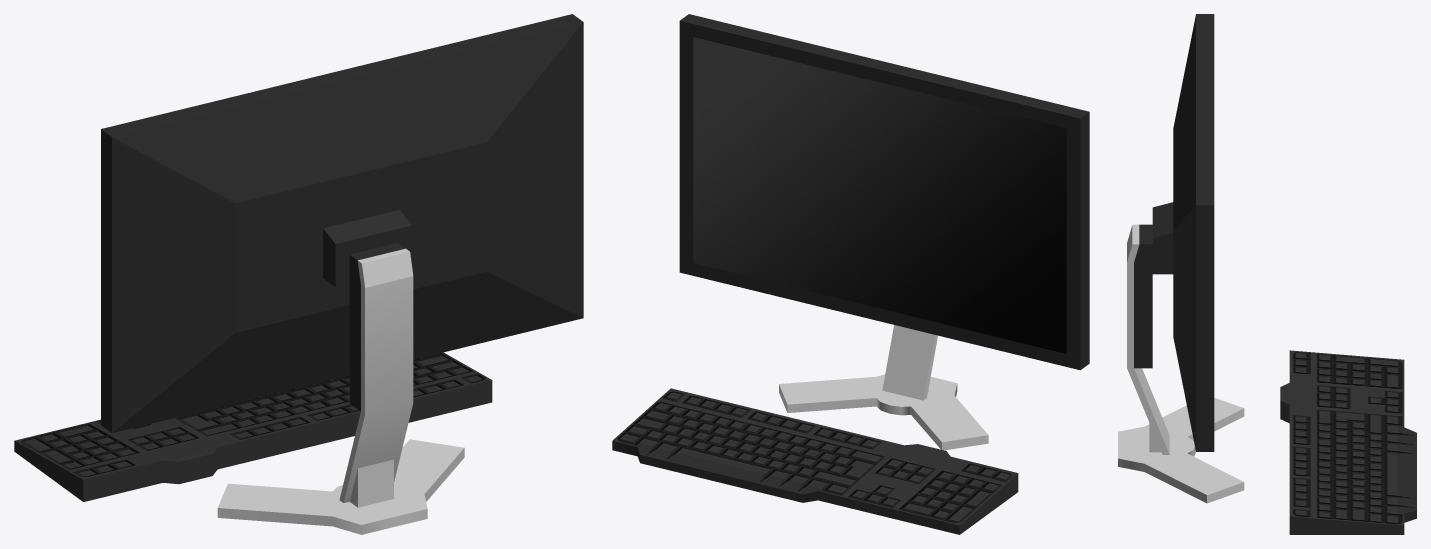
The model's file is ComSet.fbx.
The picture shows the model from 3 angles, left to right: view 1: azimuth 30°, elevation 25°; view 2: azimuth 150°, elevation 25°; view 3: azimuth 270°, elevation 25°; orthographic projection. The views are drawn at different scales.
Parts seen in each view (by area): view 1: ComSet; view 2: ComSet; view 3: ComSet.
Boxes of the visible parts, left/top/right/bottom form: ComSet: left=14, top=14, right=583, bottom=534; ComSet: left=612, top=14, right=1089, bottom=534; ComSet: left=1118, top=14, right=1416, bottom=534.
Bounding box in the file's own units: 50.52 × 42.28 × 33.31.
